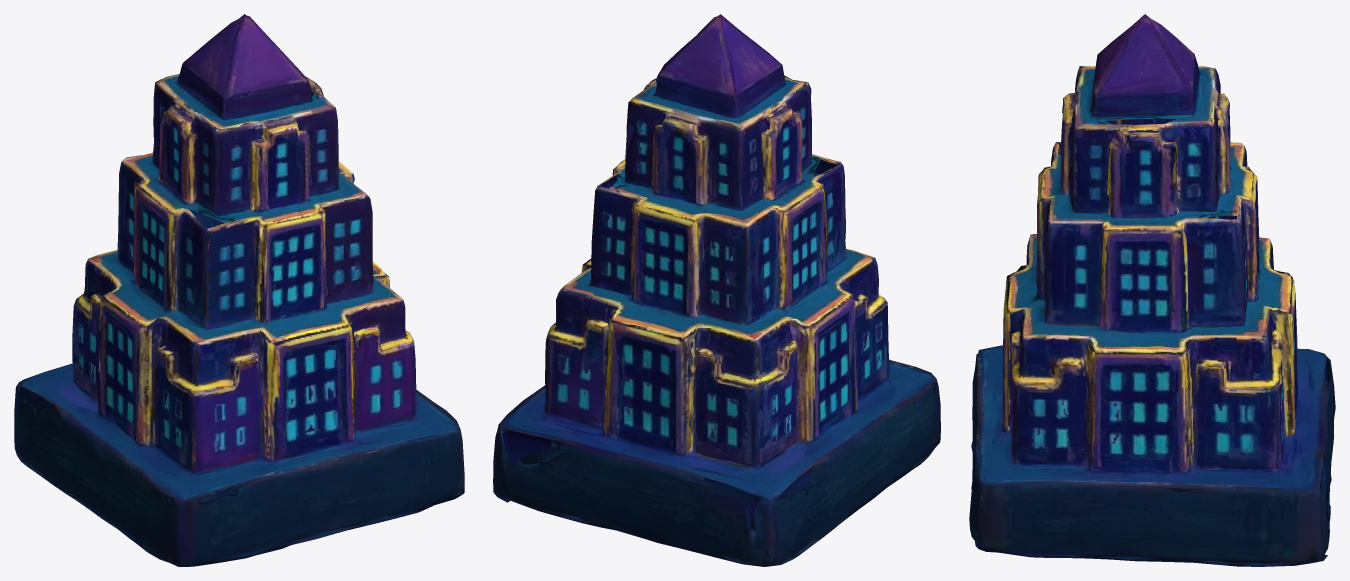
File: tower-b.glb
3 renders of one model, left to right at view 1: azimuth 30°, elevation 25°; view 2: azimuth 150°, elevation 25°; view 3: azimuth 270°, elevation 25°, orthographic. The views are drawn at different scales.
Parts seen in each view (by area): view 1: geometry_0; view 2: geometry_0; view 3: geometry_0.
Part boxes in pixels (x1,y1,x2,y2): geometry_0: [14, 14, 464, 566]; geometry_0: [493, 14, 940, 566]; geometry_0: [969, 14, 1335, 566].
Size of the model in its own units: 0.5498 by 0.8127 by 0.5584.
Materials: 1 (1 with a texture image).
